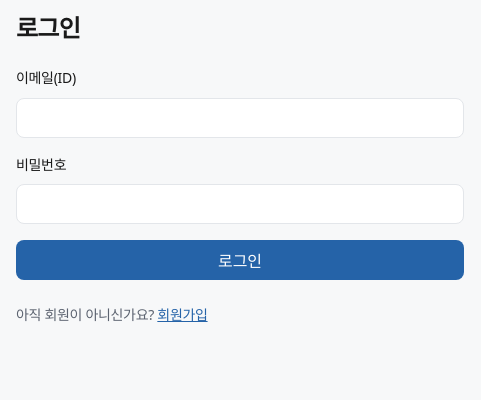
it: 로그인 폼 클라이언트 검증 › 고치기 시작하면 그 칸의 오류 문구가 사라진다
Click the button "로그인" at (240, 260), box [16, 240, 464, 280]
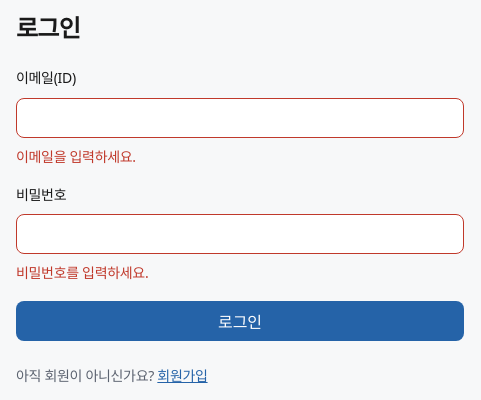
Check: the text "이메일을 입력하세요." is shown, box [16, 147, 136, 166]
Type "s" into the field labelled "이메일(ID)" at (240, 118), box [16, 98, 464, 138]
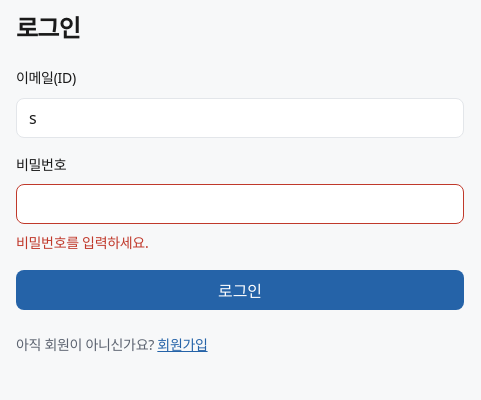
Check: the text "비밀번호를 입력하세요." is shown, box [16, 233, 148, 252]
Check: the text "이메일을 입력하세요." is gone
